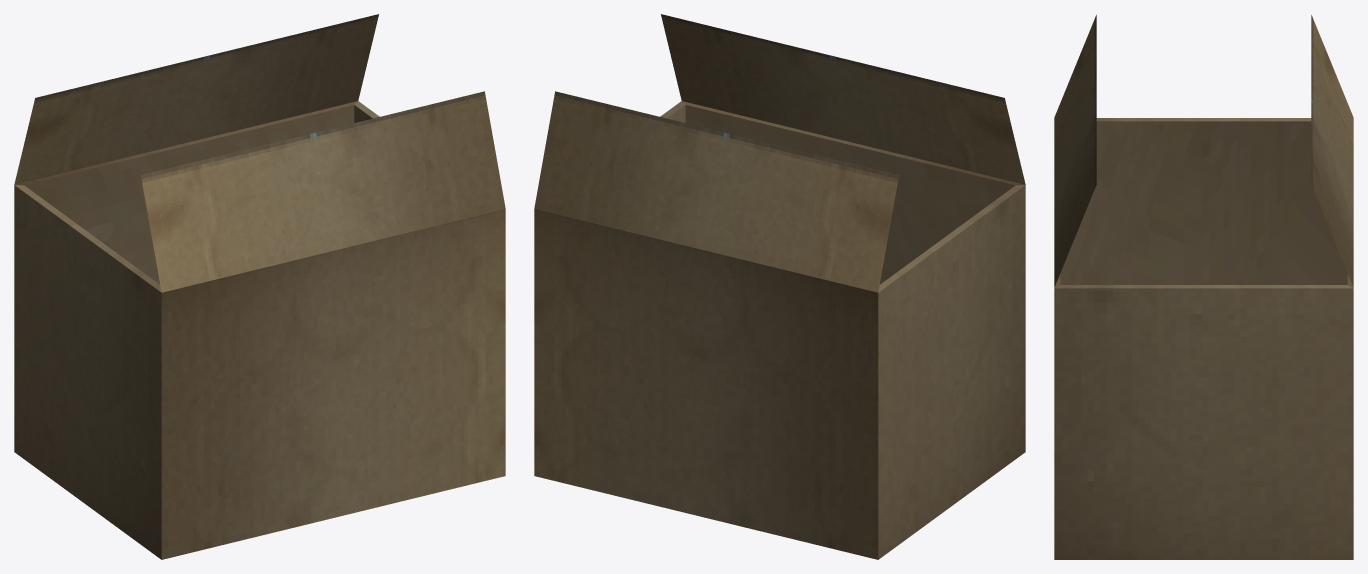
Rendered from cardboardbox_2.glb.
The picture shows the model from 3 angles, left to right: view 1: azimuth 30°, elevation 25°; view 2: azimuth 150°, elevation 25°; view 3: azimuth 270°, elevation 25°; orthographic projection.
Visible parts, largest first — view 1: CardboardBox_2; view 2: CardboardBox_2; view 3: CardboardBox_2.
Part boxes in pixels (x1=…): CardboardBox_2: x1=14, y1=14, x2=505, y2=559; CardboardBox_2: x1=534, y1=14, x2=1025, y2=559; CardboardBox_2: x1=1054, y1=15, x2=1353, y2=559.
Bounding box in the file's own units: 1.24 × 1.28 × 0.9238.
1 material, 1 textured.
